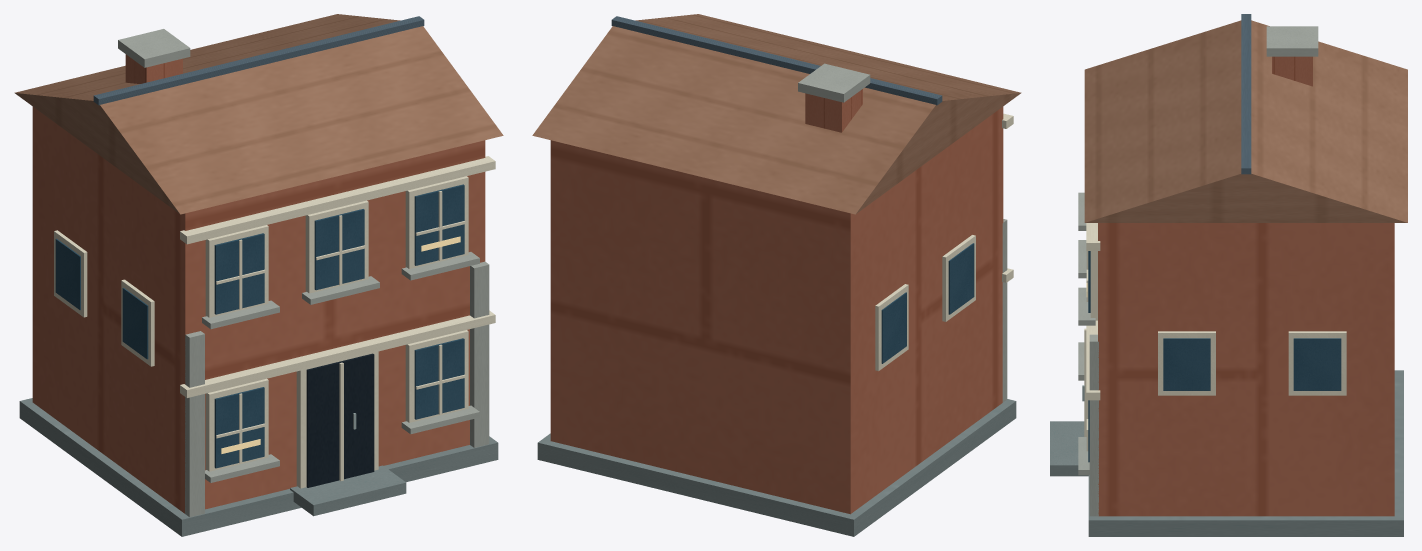
File: row-house-intact-lod.glb
3 views of the same model, side by side, from view 1: azimuth 30°, elevation 25°; view 2: azimuth 150°, elevation 25°; view 3: azimuth 270°, elevation 25° (orthographic). The views are drawn at different scales.
Visible parts, largest first — view 1: row-house-intact-lod; view 2: row-house-intact-lod; view 3: row-house-intact-lod.
Boxes of the visible parts, x1,y1,x2,y2 form: row-house-intact-lod: (14,14,503,536); row-house-intact-lod: (532,14,1021,536); row-house-intact-lod: (1050,14,1407,536).
Bounding box in the file's own units: 5.54 × 6.46 × 5.42.
Materials: 4 (4 with a texture image).
